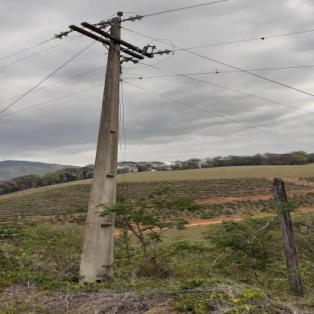Poste: (74, 16, 129, 282)
